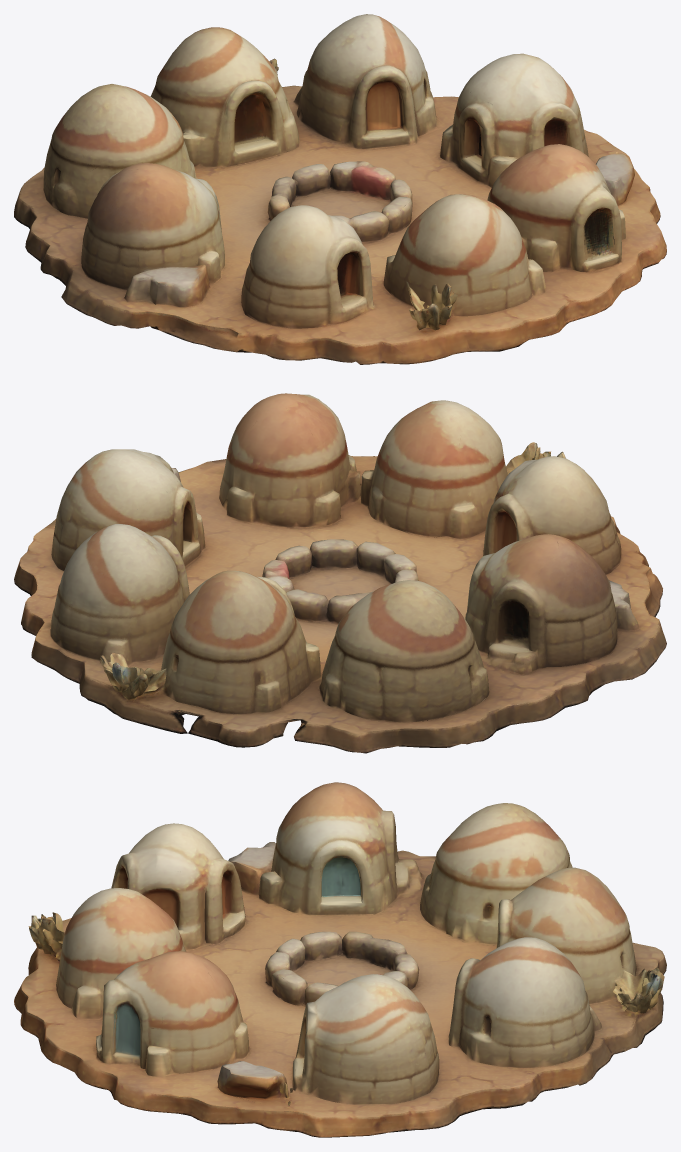
Rendered from hero_migurd_village.glb.
The picture shows the model from 3 angles, top to bottom: view 1: azimuth 30°, elevation 25°; view 2: azimuth 150°, elevation 25°; view 3: azimuth 270°, elevation 25°; orthographic projection. The views are drawn at different scales.
Parts seen in each view (by area): view 1: hero_migurd_village; view 2: hero_migurd_village; view 3: hero_migurd_village.
Part boxes in pixels (x1,y1,x2,y2): hero_migurd_village: (14, 14, 666, 364); hero_migurd_village: (14, 393, 666, 753); hero_migurd_village: (14, 782, 666, 1137).
Size of the model in its own units: 0.4 by 0.0828 by 0.3965.
1 material, 1 textured.
